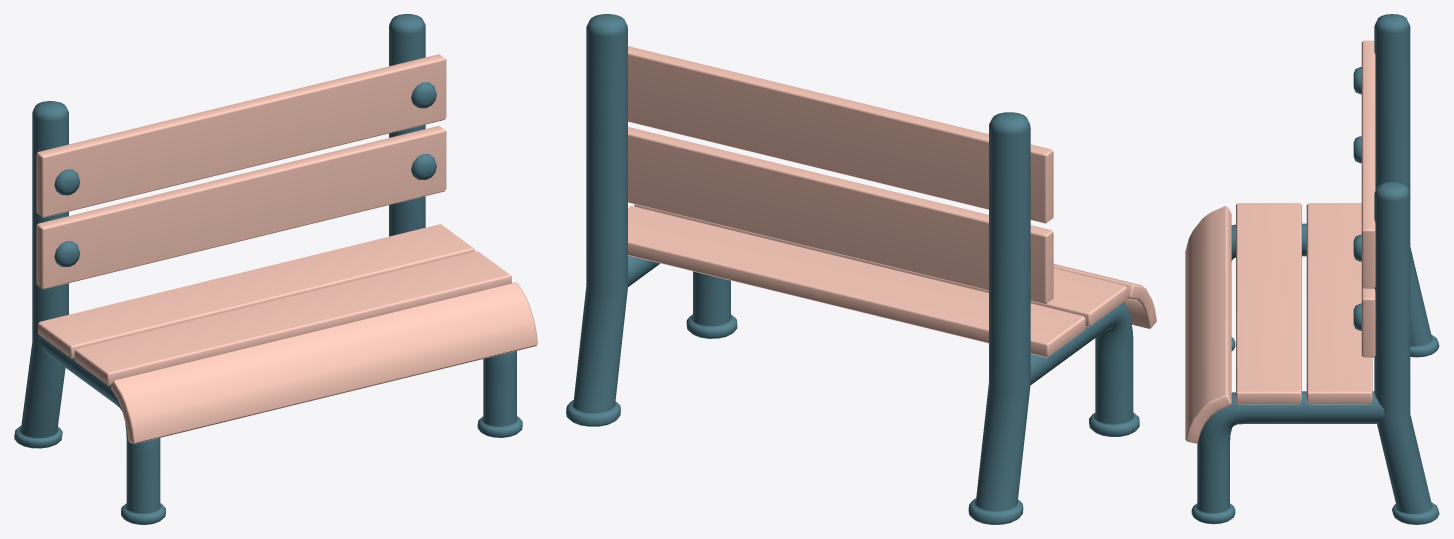
Rendered from Town_2_Bench_1.glb.
3 renders of one model, left to right at view 1: azimuth 30°, elevation 25°; view 2: azimuth 150°, elevation 25°; view 3: azimuth 270°, elevation 25°, orthographic. The views are drawn at different scales.
Visible parts, largest first — view 1: Town_2_Bench_1; view 2: Town_2_Bench_1; view 3: Town_2_Bench_1.
Boxes of the visible parts, bbox=[...] form: Town_2_Bench_1: bbox=[14, 14, 537, 524]; Town_2_Bench_1: bbox=[566, 14, 1156, 524]; Town_2_Bench_1: bbox=[1185, 14, 1439, 524].
Bounding box in the file's own units: 2.2 × 1.78 × 1.24.
Materials: 1 (1 with a texture image).
